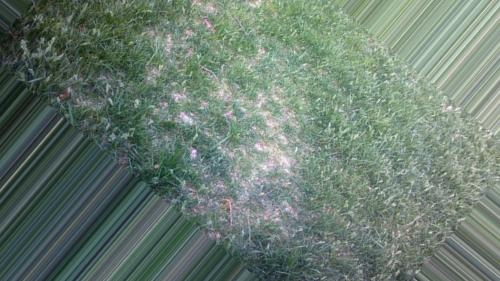patch: (172, 54, 243, 116), (248, 115, 297, 191), (261, 49, 287, 81)
